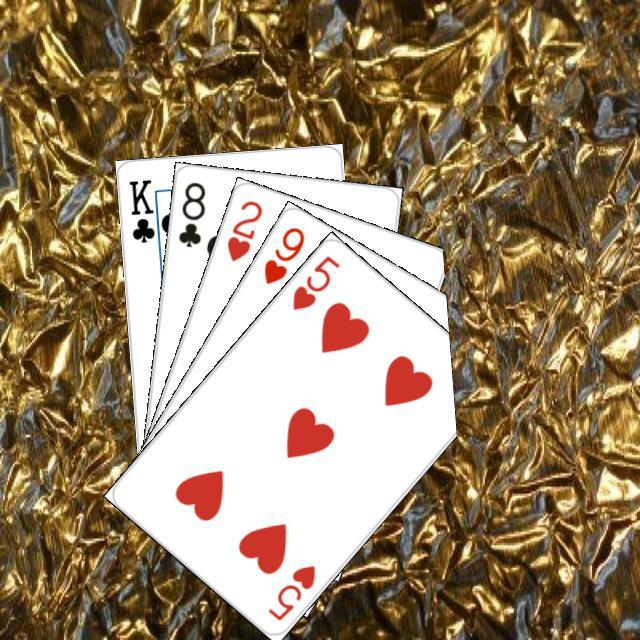2h: (222, 195, 264, 263)
5h: (287, 250, 342, 313), (263, 560, 318, 623)
8c: (174, 177, 207, 249)
9h: (258, 222, 307, 287)
Kc: (123, 174, 163, 251)
